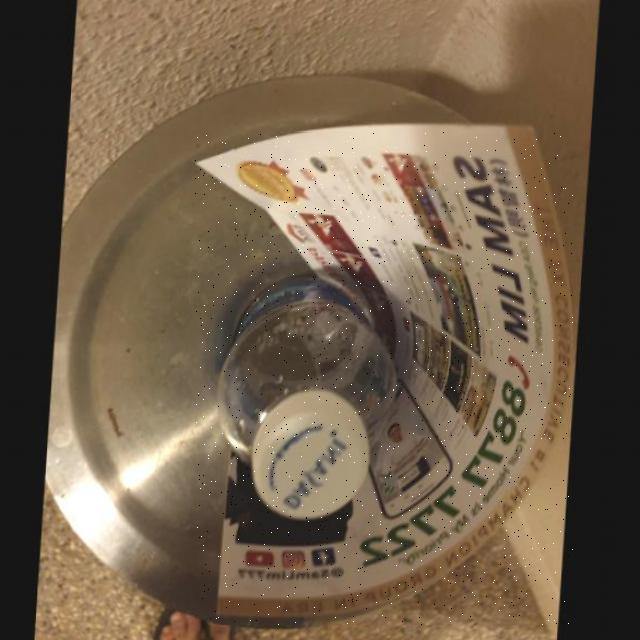paper: (196, 132, 574, 625)
plastic: (217, 282, 396, 526)
